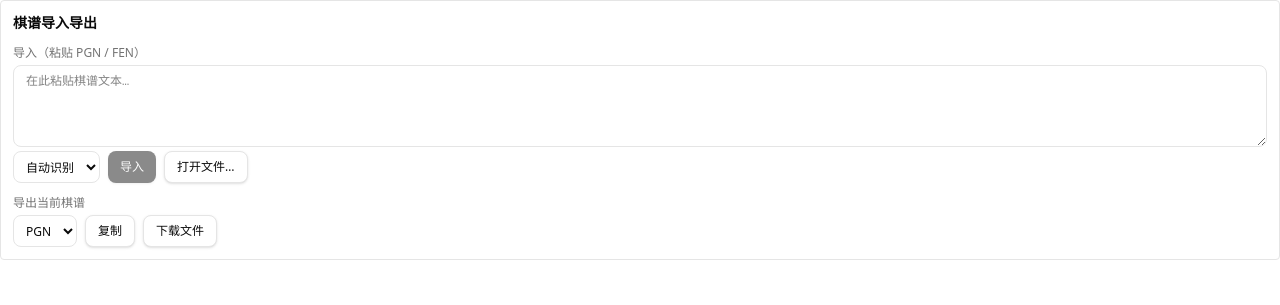
Test: GameCodec › exports and downloads a file
Click the button with test id "codec-download" at (180, 231), box [143,215,217,247]
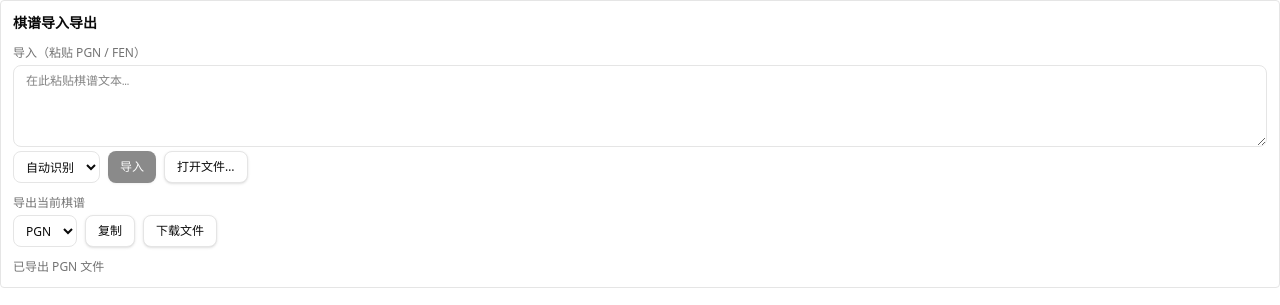
Check: the text with test id "codec-message" shows "已导出", box [13,258,104,275]
